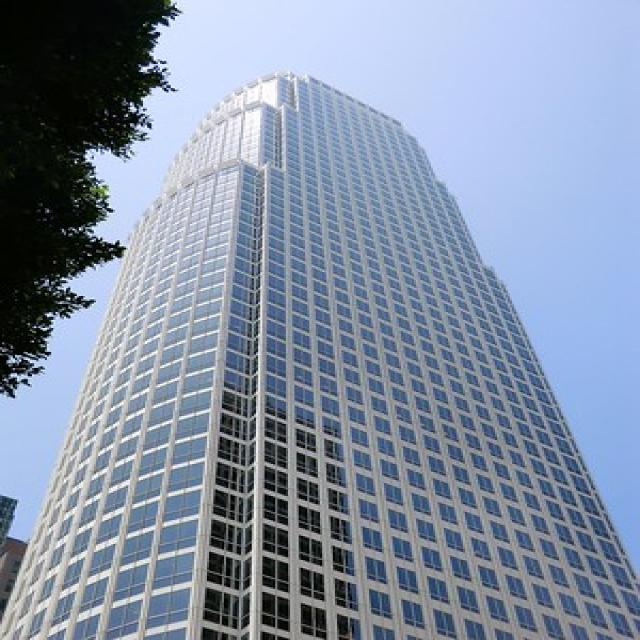Normal_building: (8, 67, 640, 638)
